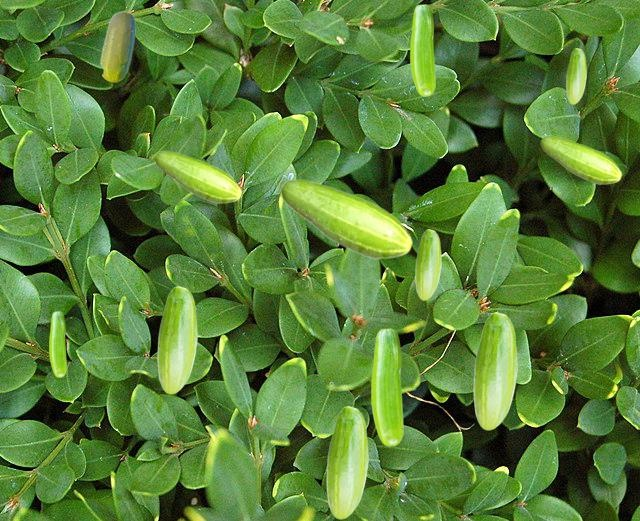cucumber: (280, 178, 412, 259), (473, 312, 516, 429), (154, 150, 241, 203), (326, 406, 367, 518), (157, 286, 196, 393), (540, 135, 621, 184), (371, 328, 402, 445), (100, 11, 134, 81), (410, 4, 434, 95), (415, 229, 440, 299), (566, 48, 585, 103), (49, 311, 65, 376)
